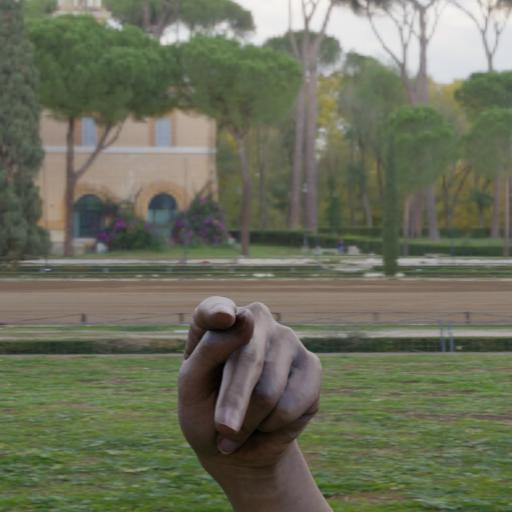P: (174, 287, 357, 512)
